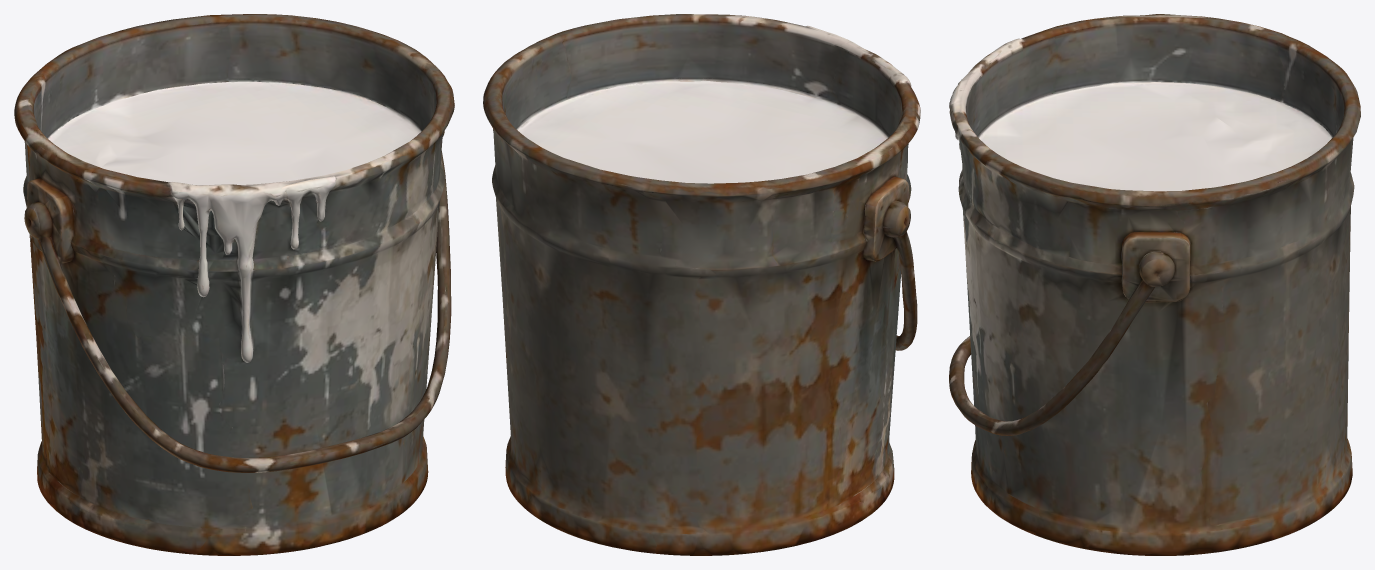
The model's file is d_paintbucket.glb.
The picture shows the model from 3 angles, left to right: view 1: azimuth 30°, elevation 25°; view 2: azimuth 150°, elevation 25°; view 3: azimuth 270°, elevation 25°; orthographic projection.
Bounding box in the file's own units: 1.9 × 1.67 × 1.67.
Materials: 1 (1 with a texture image).
